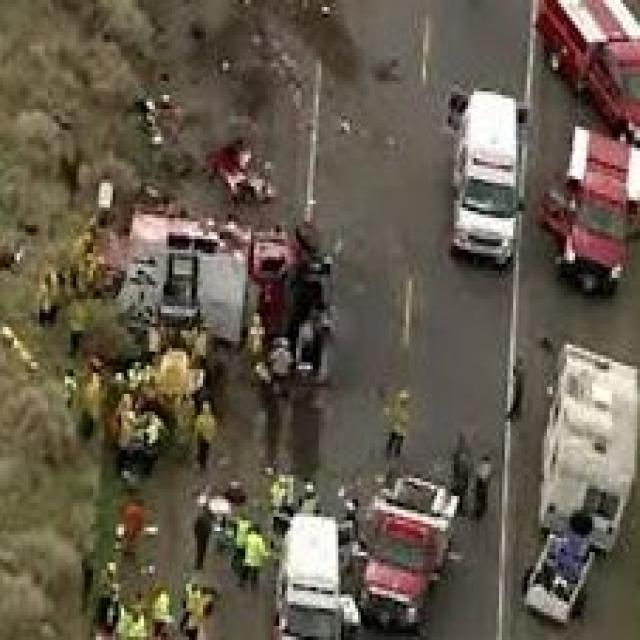traffic_incident: (82, 102, 321, 376)
